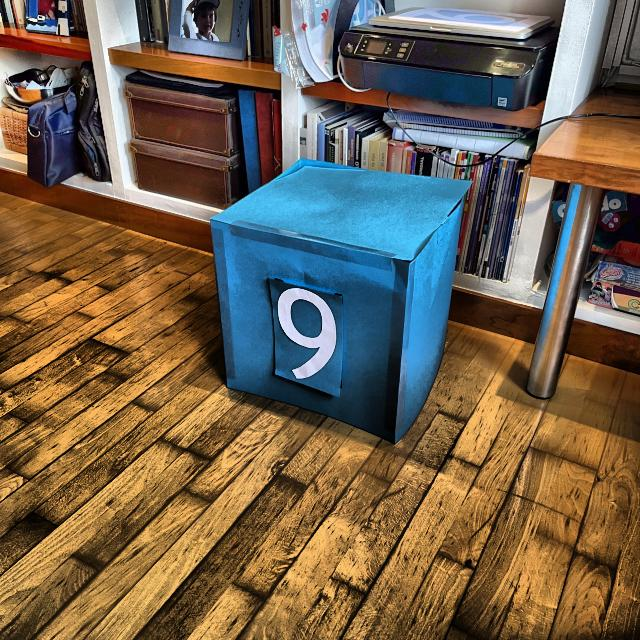blue box: (204, 153, 466, 449)
nine: (267, 275, 343, 387)
